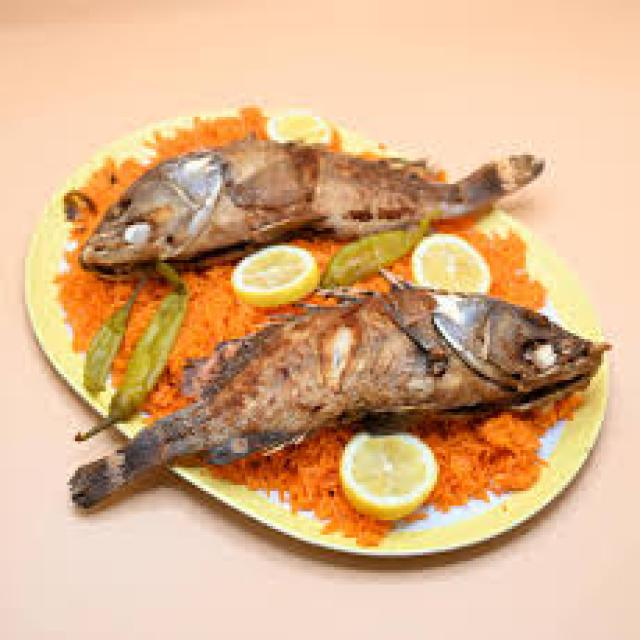Peixe: (64, 269, 612, 511), (75, 132, 546, 280)
